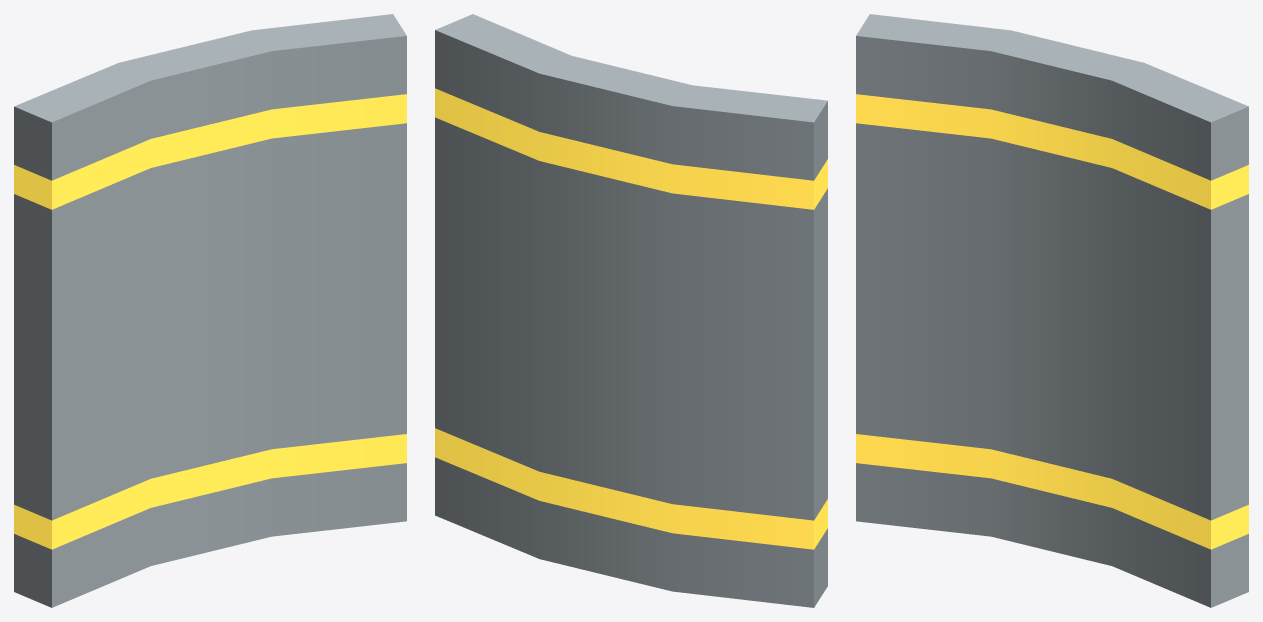
File: SM_WallCurve_v0.fbx
3 views of the same model, side by side, from view 1: azimuth 30°, elevation 25°; view 2: azimuth 150°, elevation 25°; view 3: azimuth 330°, elevation 25° (orthographic).
Visible parts, largest first — view 1: SM_WallCurve_v0; view 2: SM_WallCurve_v0; view 3: SM_WallCurve_v0.
Part boxes in pixels (x1,y1,x2,y2): SM_WallCurve_v0: [14, 14, 406, 607]; SM_WallCurve_v0: [435, 14, 827, 607]; SM_WallCurve_v0: [856, 14, 1248, 607].
Bounding box in the file's own units: 0.8171 × 1 × 0.1659.
